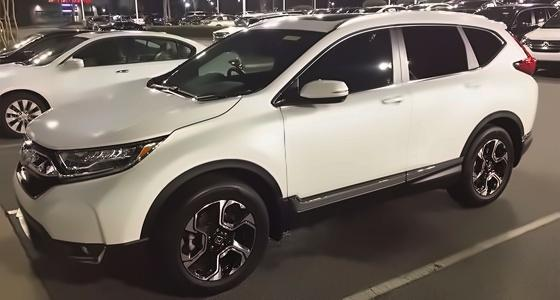Car hood: (22, 77, 241, 150)
Fender - -F-L-: (139, 90, 291, 208), (0, 63, 64, 108)
Fender - -R-L-: (459, 12, 535, 138)
Front bumper: (6, 162, 168, 268)
Headlight - -L-: (49, 133, 169, 182)
Passenger-s door - -F-L-: (275, 11, 417, 229), (57, 31, 134, 112)
Passenger-s door - -R-L-: (392, 10, 492, 199), (124, 29, 186, 82)
Rear bumper: (511, 121, 539, 172)
Rear light - -L-: (504, 30, 537, 79)
Side bumper - -L-: (266, 154, 463, 246)
Side mirror - -L-: (279, 77, 349, 107), (58, 57, 86, 75)
